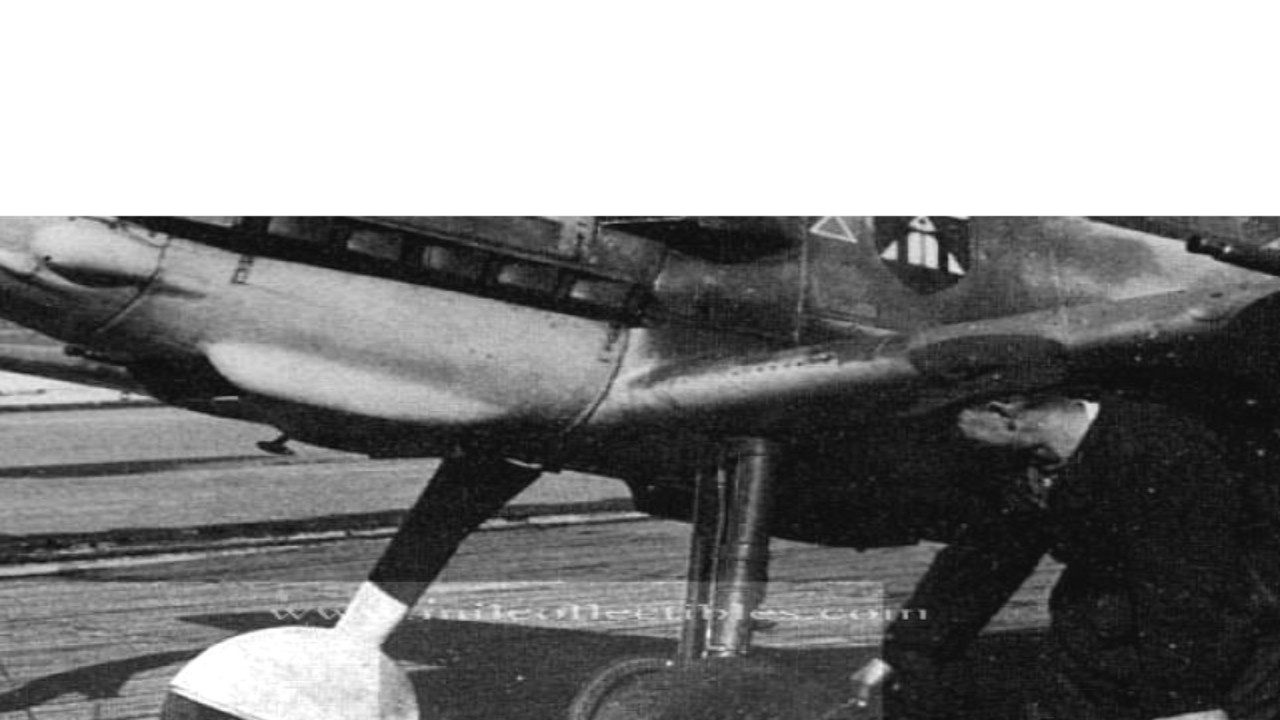wheel: (147, 613, 421, 720), (556, 652, 890, 720)
